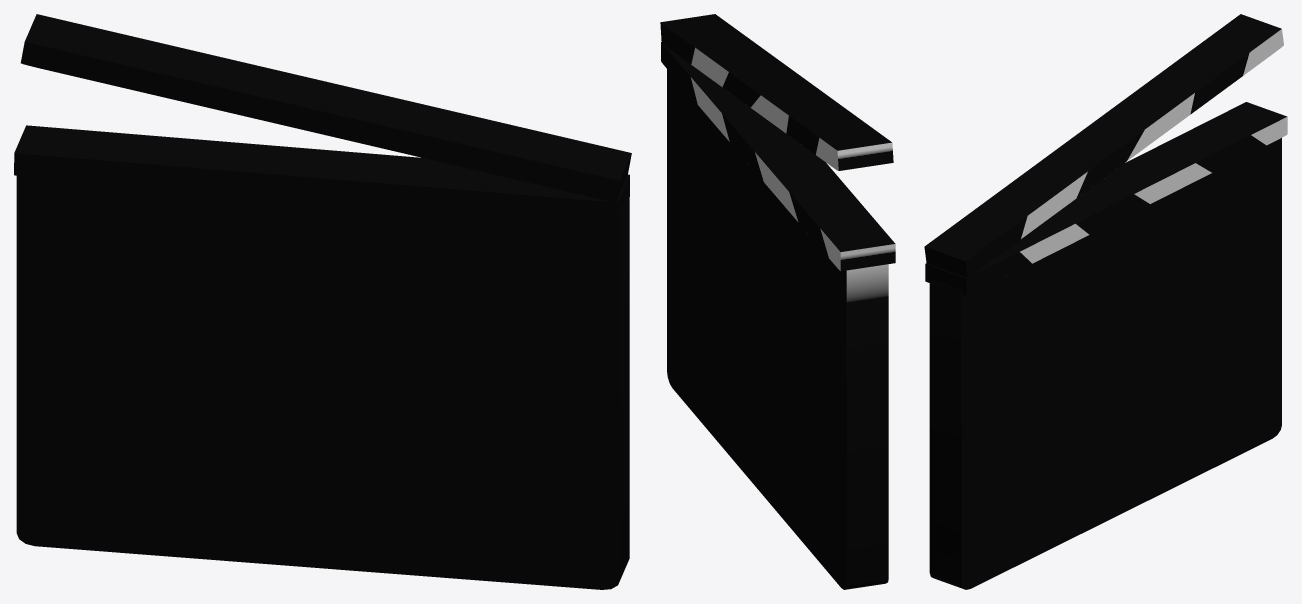
3 renders of one model, left to right at view 1: azimuth 30°, elevation 25°; view 2: azimuth 150°, elevation 25°; view 3: azimuth 270°, elevation 25°, orthographic. The views are drawn at different scales.
Parts seen in each view (by area): view 1: Cinema; view 2: Cinema; view 3: Cinema.
Part boxes in pixels (x1,y1,x2,y2): Cinema: [14, 14, 631, 589]; Cinema: [660, 14, 895, 589]; Cinema: [924, 14, 1287, 589].
Bounding box in the file's own units: 1.4 × 1.53 × 1.23.
1 material, 1 textured.
